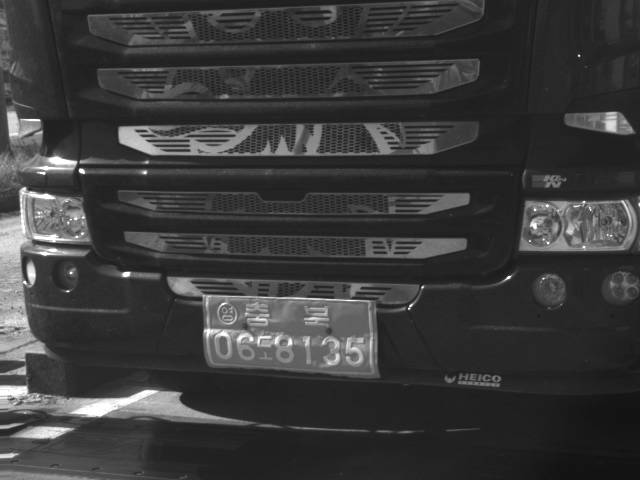car: (4, 1, 639, 418)
plate: (203, 294, 384, 380)
